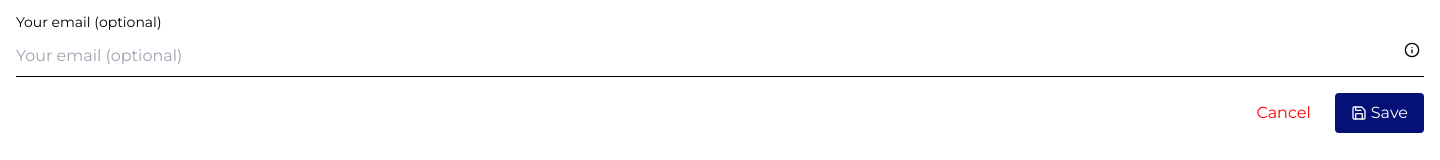
Test case: EmailForm() EmailForm method › Edge cases › handles rapid toggling of info tooltip
The width and height of the screenshot is (1440, 160).
Step 1. Click the button named "information" → (1412, 50), box [1404,42,1420,58]
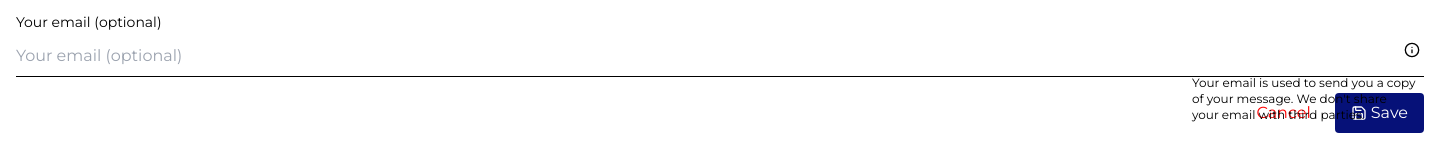
Now the text "Your email is used to send you a copy of your message" is shown, box [1192,75,1416,122]
Step 2. Click the button named "information" → (1412, 50), box [1404,42,1420,58]
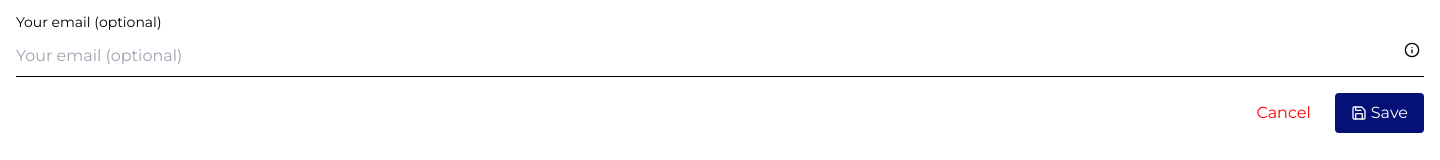
Now the text "Your email is used to send you a copy of your message" is gone
Step 3. Click the button named "information" → (1412, 50), box [1404,42,1420,58]
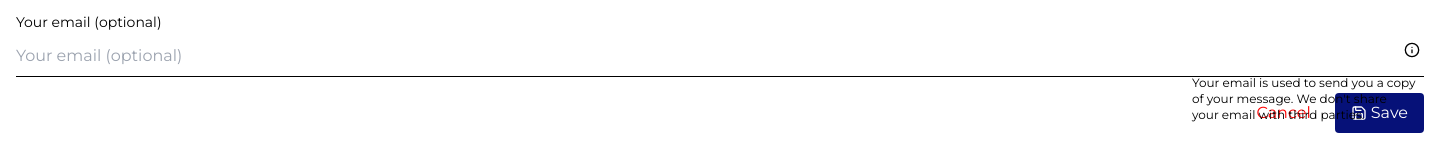
Now the text "Your email is used to send you a copy of your message" is shown, box [1192,75,1416,122]
